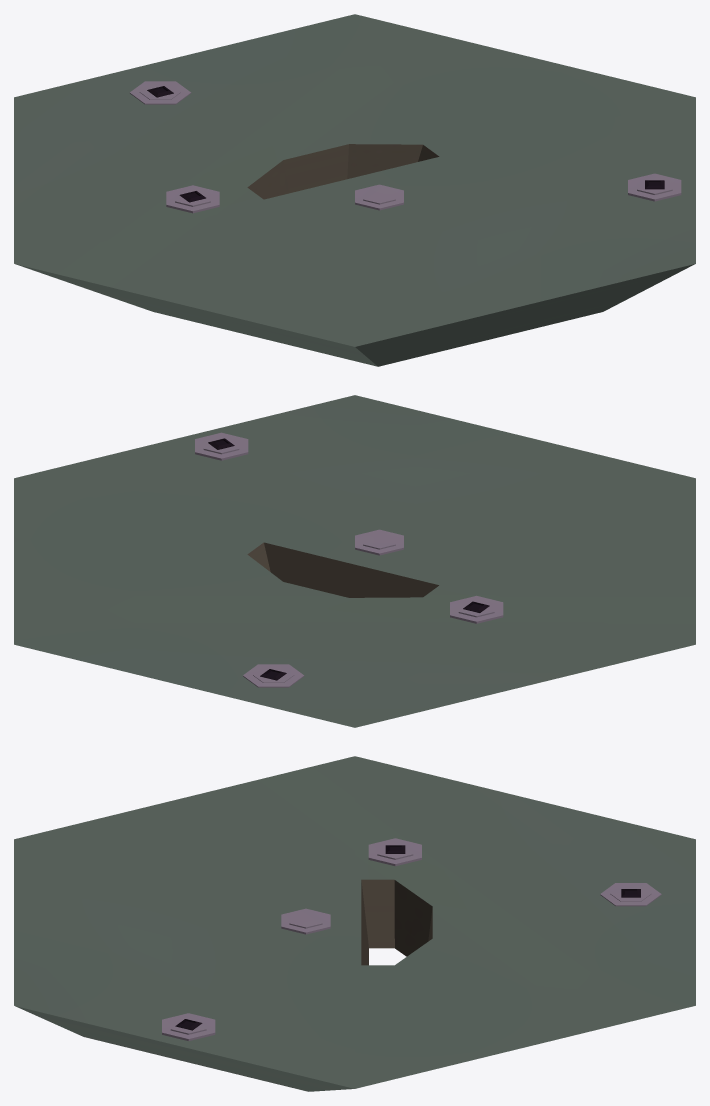
Rendered from lvl1_playspace2.0.glb.
3 renders of one model, top to bottom at view 1: azimuth 30°, elevation 25°; view 2: azimuth 150°, elevation 25°; view 3: azimuth 270°, elevation 25°, orthographic.
Parts seen in each view (by area): view 1: lvl1_playspace; view 2: lvl1_playspace; view 3: lvl1_playspace.
Part boxes in pixels (x1=…): lvl1_playspace: x1=14, y1=14, x2=695, y2=366; lvl1_playspace: x1=14, y1=395, x2=695, y2=727; lvl1_playspace: x1=14, y1=756, x2=695, y2=1091.
Bounding box in the file's own units: 60 × 5.46 × 51.96.
Materials: 1 (1 with a texture image).
